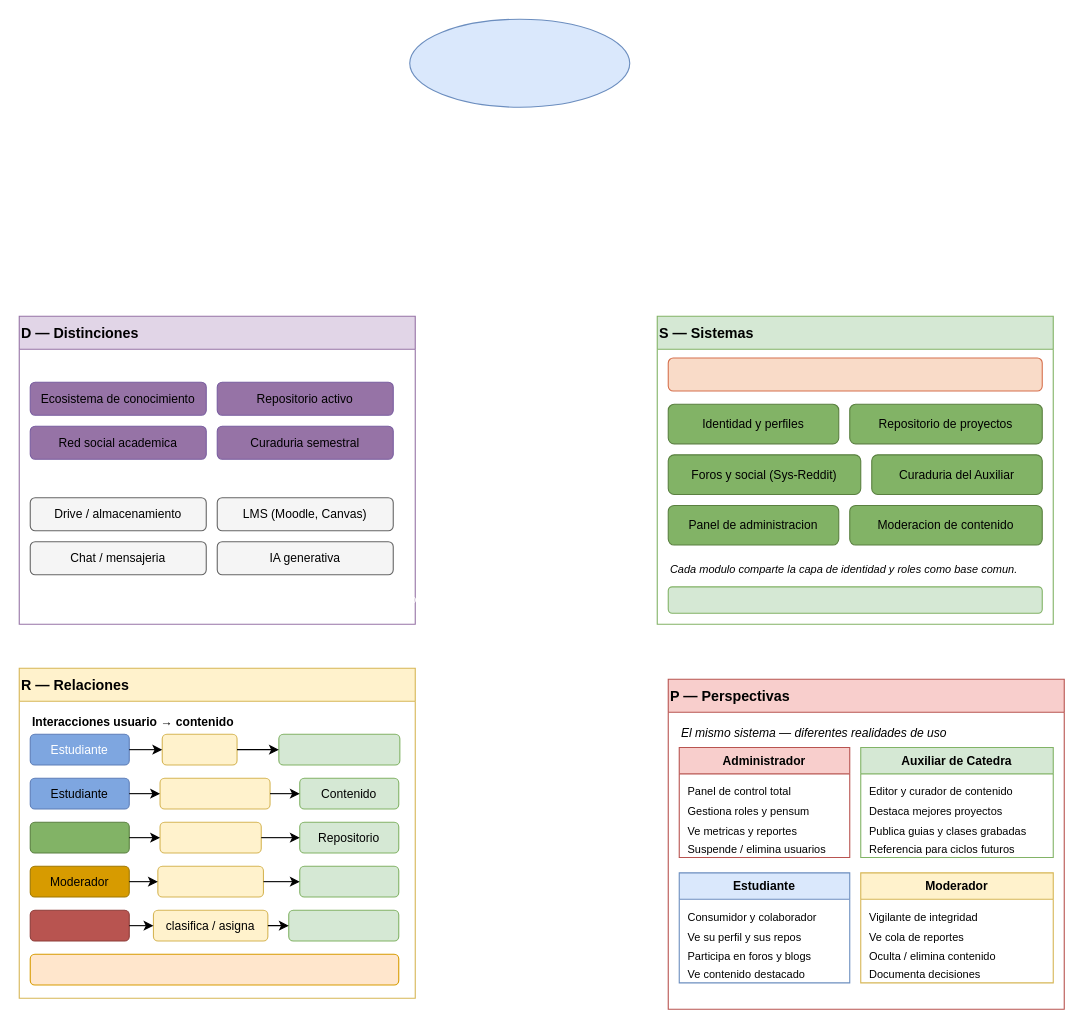
Image size: 1084x1029. Some labels were removed from this diagram. The shapes that lost their labels are listed below. From the top down, each one's centre as x and y in pixels, then its label:
At pixel 519 62: "Syshub Analisis DSRP".
At pixel 854 374: "Suprasistema: Institucion educativa (semestres, cursos, pensum)".
At pixel 854 599: "Capa compartida: Autenticacion / Roles / Sesion".
At pixel 199 749: "publica".
At pixel 339 749: "Proyecto / hilo".
At pixel 214 793: "valora / comenta".
At pixel 79 837: "Auxiliar".
At pixel 210 837: "destaca / guia".
At pixel 210 881: "revisa / elimina".
At pixel 349 881: "Publicacion".
At pixel 79 925: "Admin".
At pixel 343 925: "Usuarios / roles".
At pixel 214 969: "→ La interaccion entre partes genera conocimiento emergente".
